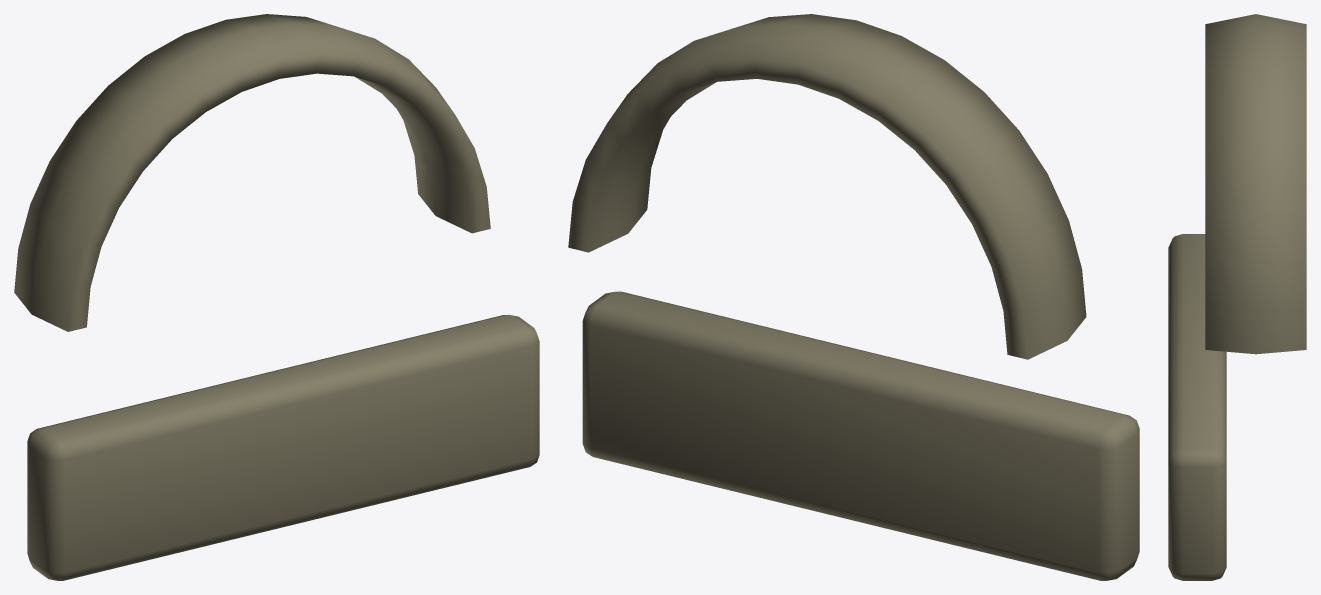
Rendered from DragHandle.fbx.
The picture shows the model from 3 angles, left to right: view 1: azimuth 30°, elevation 25°; view 2: azimuth 150°, elevation 25°; view 3: azimuth 270°, elevation 25°; orthographic projection. The views are drawn at different scales.
Visible parts, largest first — view 1: DragHandle; view 2: DragHandle; view 3: DragHandle.
Part boxes in pixels (x1,y1,x2,y2): DragHandle: [14, 14, 539, 580]; DragHandle: [568, 14, 1139, 580]; DragHandle: [1168, 14, 1306, 580].
Size of the model in its own units: 0.11 by 0.0992 by 0.0284.
